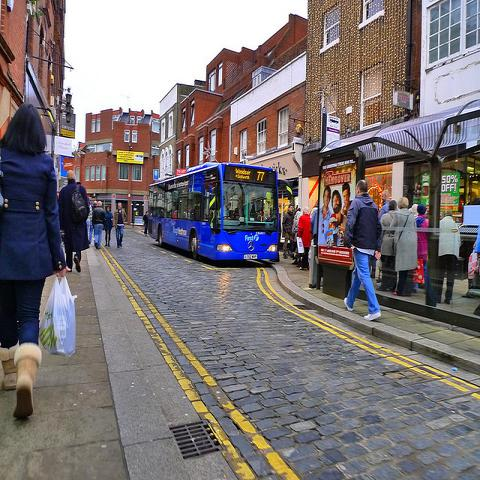bus: (140, 167, 282, 275)
